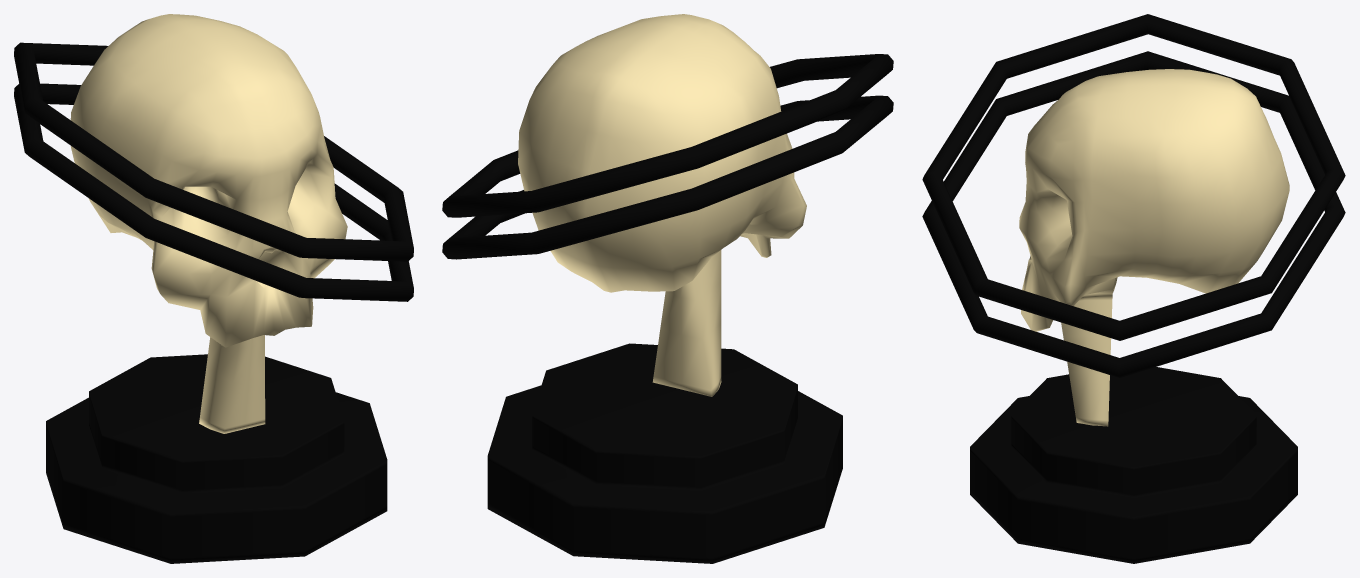
Rendered from Rey_alqui.fbx.
3 views of the same model, side by side, from view 1: azimuth 30°, elevation 25°; view 2: azimuth 150°, elevation 25°; view 3: azimuth 270°, elevation 25° (orthographic). The views are drawn at different scales.
Parts seen in each view (by area): view 1: Base_Rey1; view 2: Base_Rey1; view 3: Base_Rey1.
Boxes of the visible parts, x1=… form: Base_Rey1: x1=14, y1=14, x2=413, y2=563; Base_Rey1: x1=442, y1=14, x2=893, y2=563; Base_Rey1: x1=922, y1=14, x2=1345, y2=563.
Bounding box in the file's own units: 7.11 × 8.36 × 7.75.
